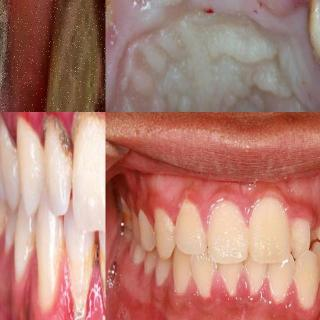Gum Swelling: (17, 246, 84, 320), (203, 190, 312, 232), (182, 267, 278, 313), (20, 112, 106, 146), (83, 265, 106, 320)
calculus: (38, 112, 72, 164), (65, 252, 91, 320), (71, 112, 105, 142), (0, 112, 15, 155), (98, 248, 105, 320)
cavities: (0, 0, 33, 112)
maligned: (295, 242, 320, 320), (188, 248, 216, 302)
plaque: (252, 198, 287, 266), (209, 203, 247, 263), (176, 197, 203, 250), (154, 208, 176, 252), (289, 217, 309, 257)
